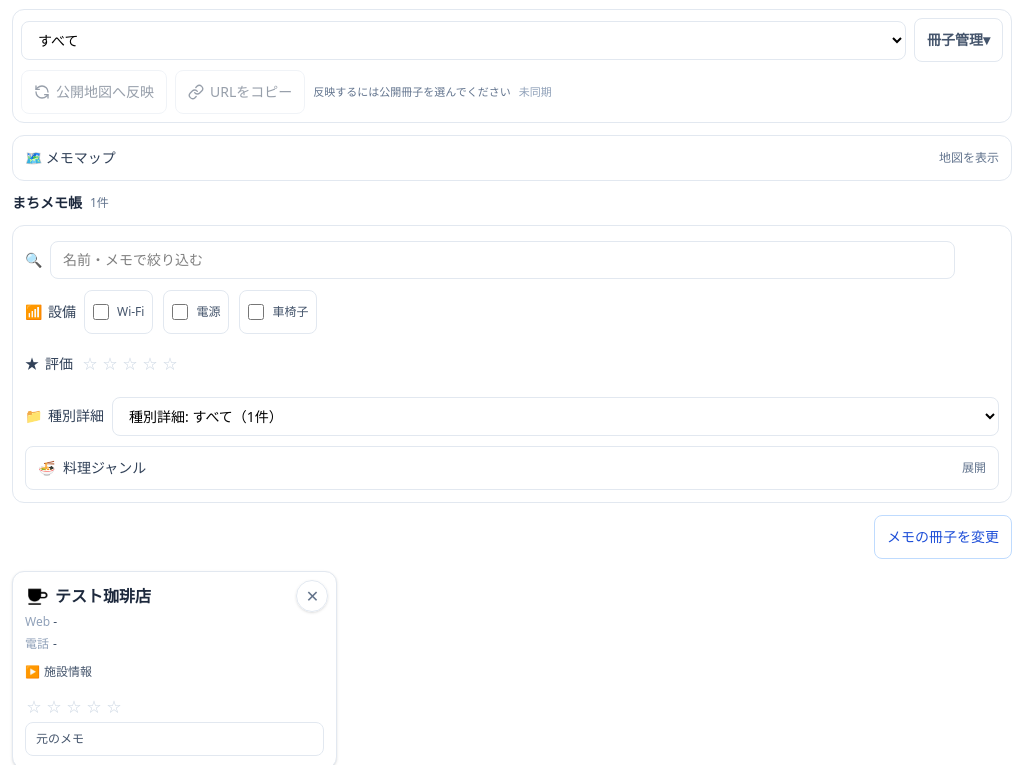
Test case: MemochoSection: メモ欄 › 編集モードに切替しても変更なしでフォーカスを外すと内容は変わらない
Click the text named "テスト珈琲店のメモ" at (175, 739), box [25,722,324,756]
(page scrolled)
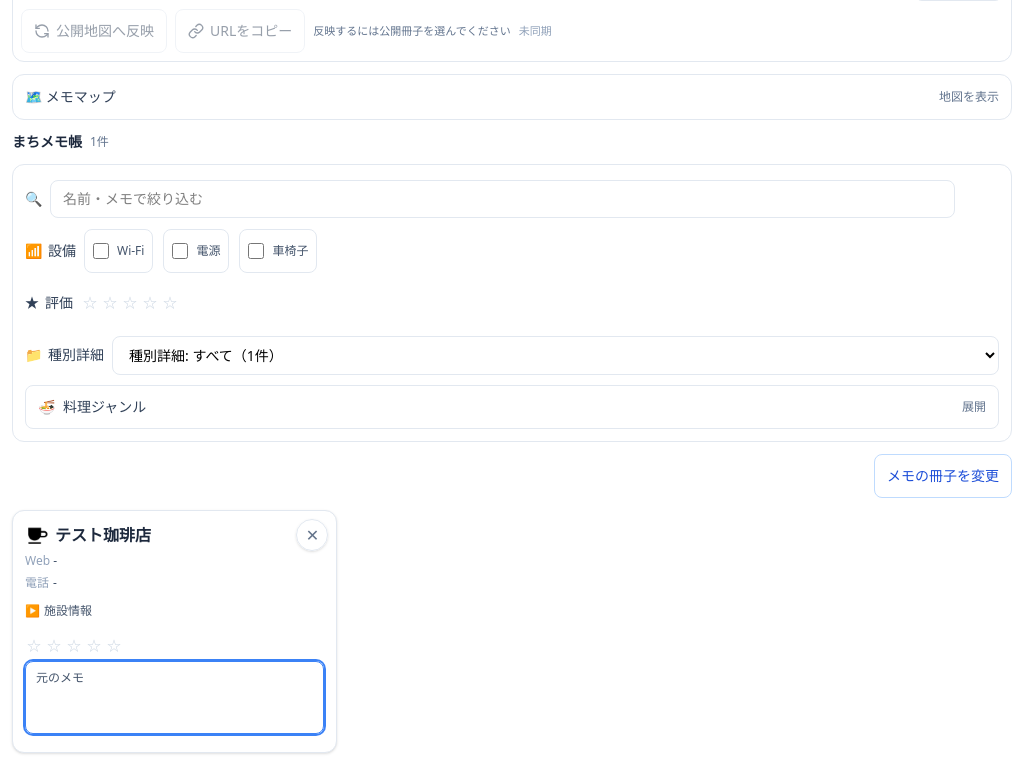
Result: the text box named "テスト珈琲店のメモ" holds "元のメモ"
Leave the text box named "テスト珈琲店のメモ", box [25,661,324,734]
(page scrolled)
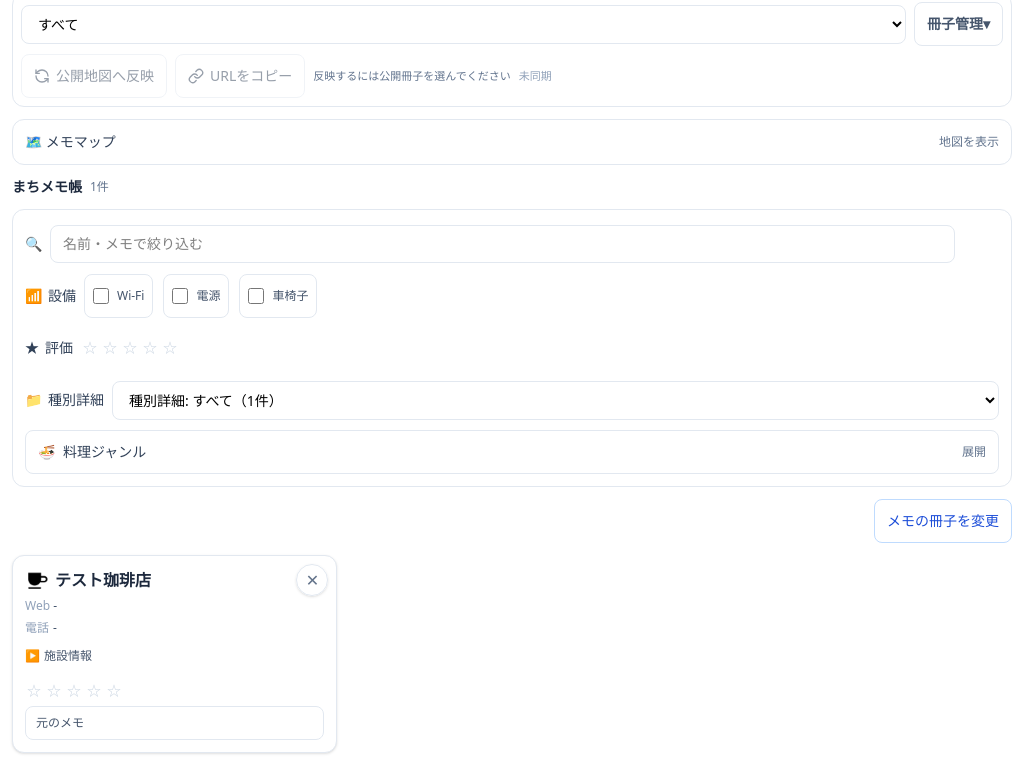
Result: the text "元のメモ" is shown at [25,706,324,740]
